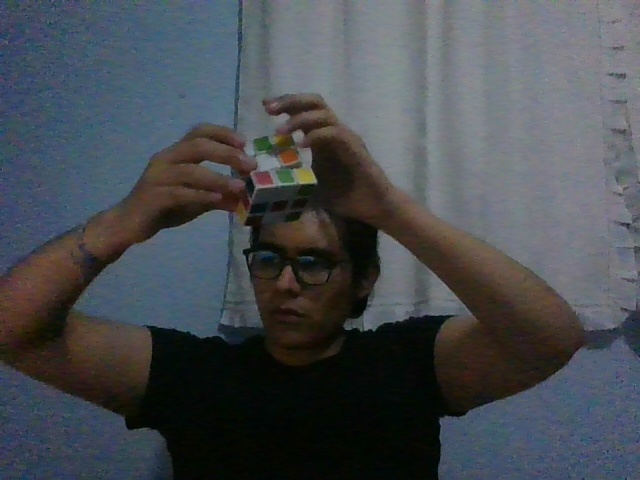rubik: (230, 133, 318, 227)
